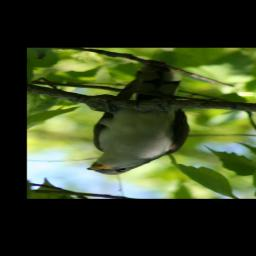Cuckoo: (86, 61, 191, 175)
